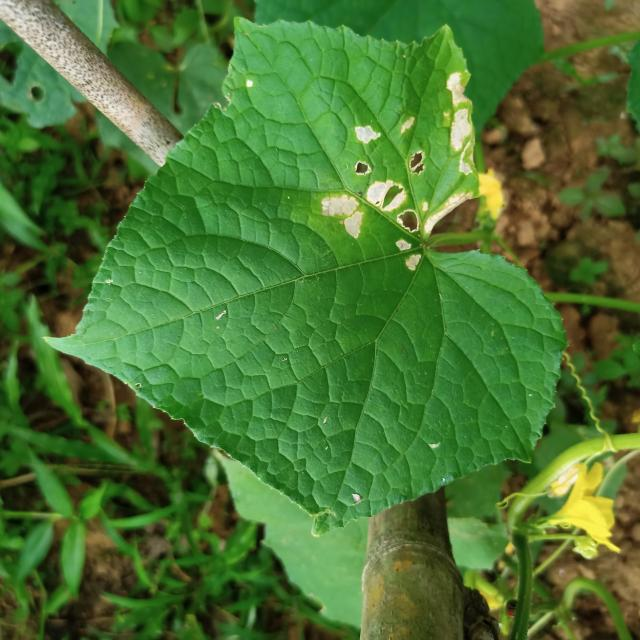disease_cucumber: (321, 72, 474, 268)
